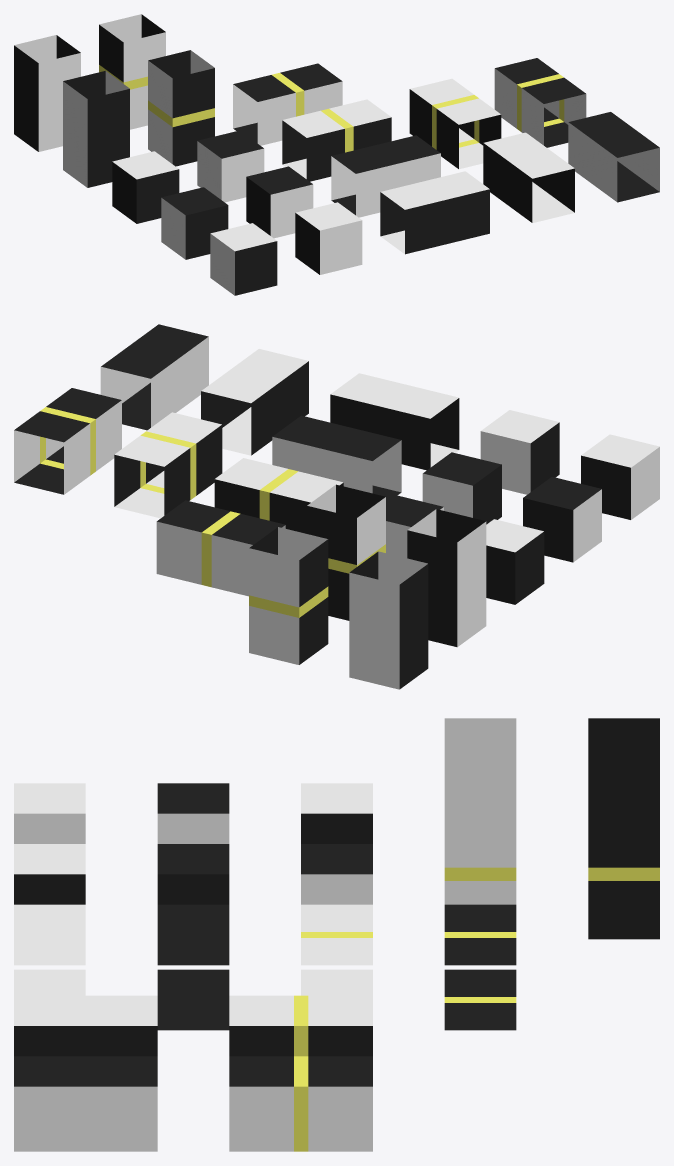
Rendered from library.dae.
3 views of the same model, one above another, from view 1: azimuth 30°, elevation 25°; view 2: azimuth 150°, elevation 25°; view 3: azimuth 270°, elevation 25° (orthographic). The views are drawn at different scales.
Visible parts, largest first — view 1: oxz (×3), zxoh (×6), zxo (×3), zox (×4), xoz (×4), xozh (×7), zoxh (×7), xzo (×3), oxzh (×6), ozxh (×6), ozx (×3), zxz (×2) (+6 smaller); view 2: xzoh (×6), xzo (×3), xozh (×7), zoxh (×7), xoz (×4), zox (×4), zxo (×3), ozxh (×5), oxz (×3), ozx (×3), oxzh (×5), zxoh (×4) (+6 smaller); view 3: zoxh (×5), zox (×2), xzoh (×4), zxoh (×4), ozx (×2), ozxh (×5), xozh (×5), xoz (×2), oxz (×2), oxzh (×3), zxx (×2), zxo (×2) (+6 smaller).
Part boxes in pixels (left/top/right/bottom): oxz (×3): left=380, top=171, right=489, bottom=254; zxoh (×6): left=148, top=50, right=214, bottom=166; zxo (×3): left=63, top=71, right=129, bottom=187; zox (×4): left=568, top=112, right=659, bottom=202; xoz (×4): left=483, top=132, right=574, bottom=223; xozh (×7): left=409, top=78, right=501, bottom=169; zoxh (×7): left=494, top=58, right=586, bottom=147; xzo (×3): left=14, top=35, right=80, bottom=151; oxzh (×6): left=282, top=99, right=391, bottom=181; ozxh (×6): left=233, top=63, right=342, bottom=145; ozx (×3): left=331, top=135, right=440, bottom=217; zxz (×2): left=210, top=223, right=277, bottom=295; xzoh (×6): left=249, top=527, right=328, bottom=664; xzo (×3): left=349, top=551, right=428, bottom=689; xozh (×7): left=114, top=412, right=222, bottom=518; zoxh (×7): left=14, top=388, right=121, bottom=494; xoz (×4): left=201, top=349, right=308, bottom=455; zox (×4): left=100, top=324, right=208, bottom=430; zxo (×3): left=407, top=509, right=486, bottom=646; ozxh (×5): left=156, top=500, right=285, bottom=596; oxz (×3): left=330, top=373, right=459, bottom=470; ozx (×3): left=272, top=415, right=401, bottom=493; oxzh (×5): left=214, top=458, right=343, bottom=533; zxoh (×4): left=307, top=484, right=385, bottom=620; zoxh (×5): left=229, top=1056, right=372, bottom=1151; zox (×2): left=14, top=1056, right=157, bottom=1151; xzoh (×4): left=588, top=779, right=659, bottom=939; zxoh (×4): left=444, top=779, right=516, bottom=904; ozx (×2): left=157, top=904, right=229, bottom=1030; ozxh (×5): left=444, top=904, right=516, bottom=1030; xozh (×5): left=229, top=995, right=372, bottom=1056; xoz (×2): left=14, top=995, right=157, bottom=1056; oxz (×2): left=14, top=904, right=85, bottom=995; oxzh (×3): left=301, top=904, right=372, bottom=995; zxx (×2): left=157, top=783, right=229, bottom=843; zxo (×2): left=444, top=718, right=516, bottom=778.
Size of the model in its own units: 10 by 9 by 2.
